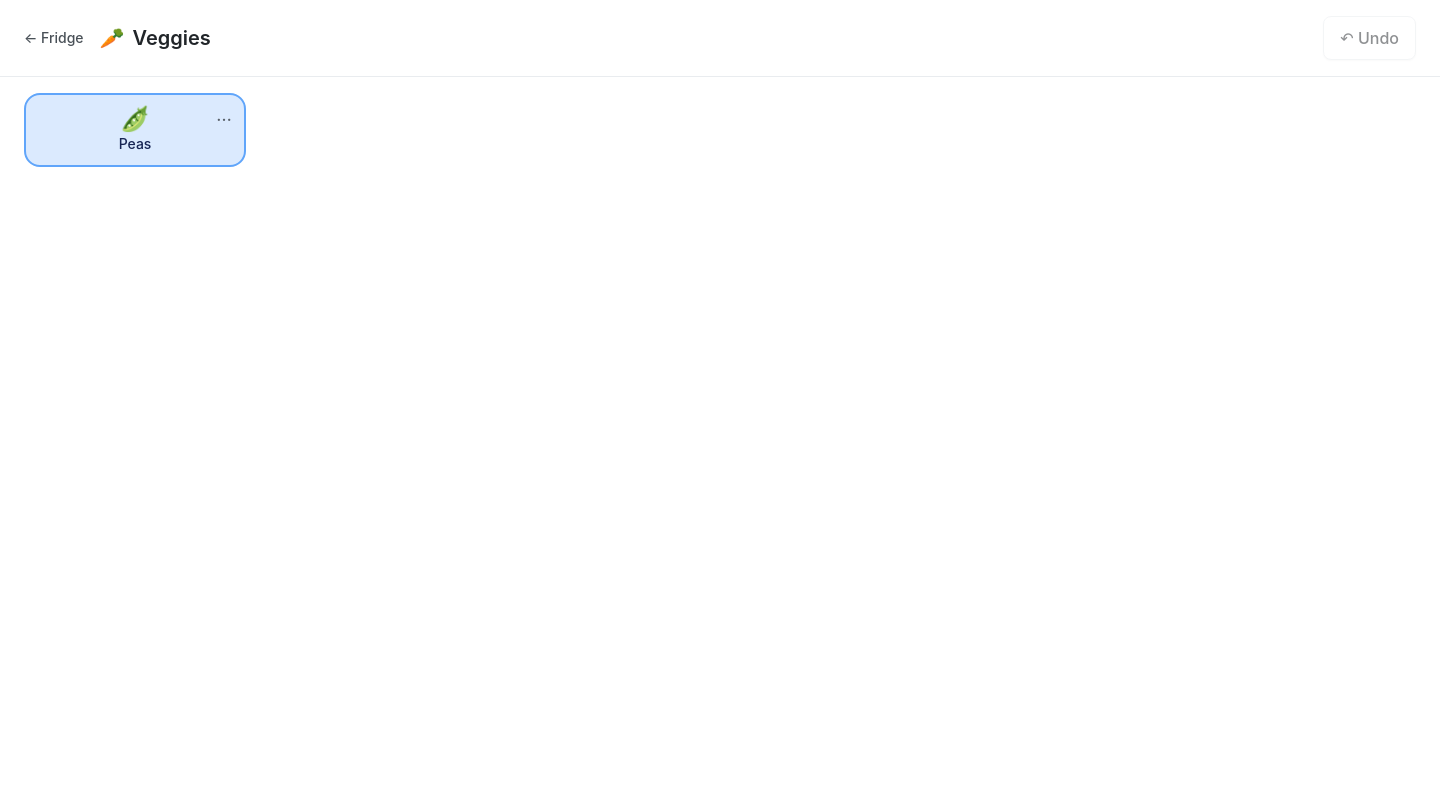
it: moves an item to the freezer, and it leaves the area
Check: the button with aria-label "Peas, keeps" is shown, box x1=24 y1=93 x2=246 y2=166
Click the button named "More for Peas" at (224, 115), box x1=202 y1=93 x2=246 y2=137
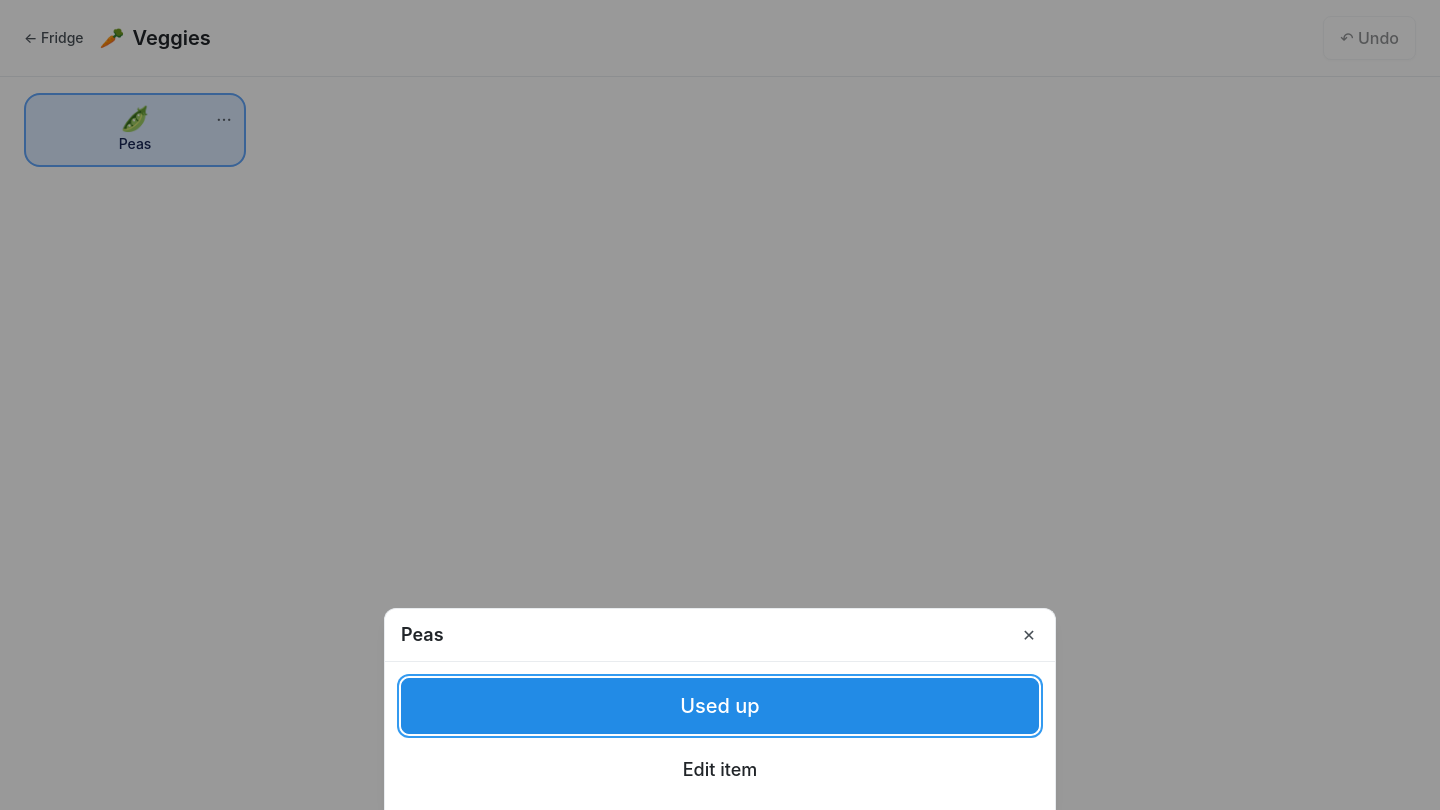
Click the button "Edit item" at (720, 770), box x1=401 y1=746 x2=1039 y2=794
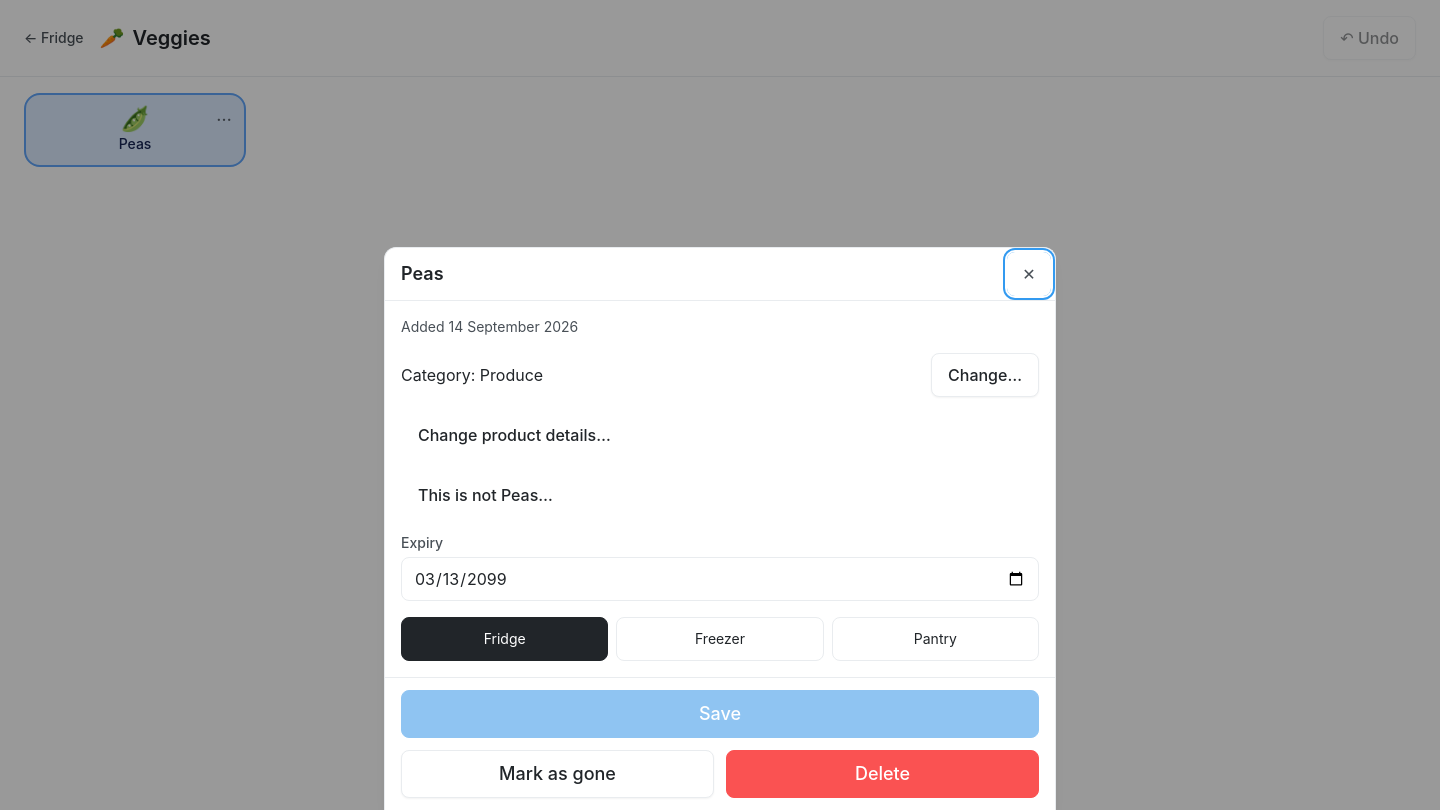
Click the radio button "Freezer" at (720, 639), box x1=616 y1=617 x2=824 y2=661
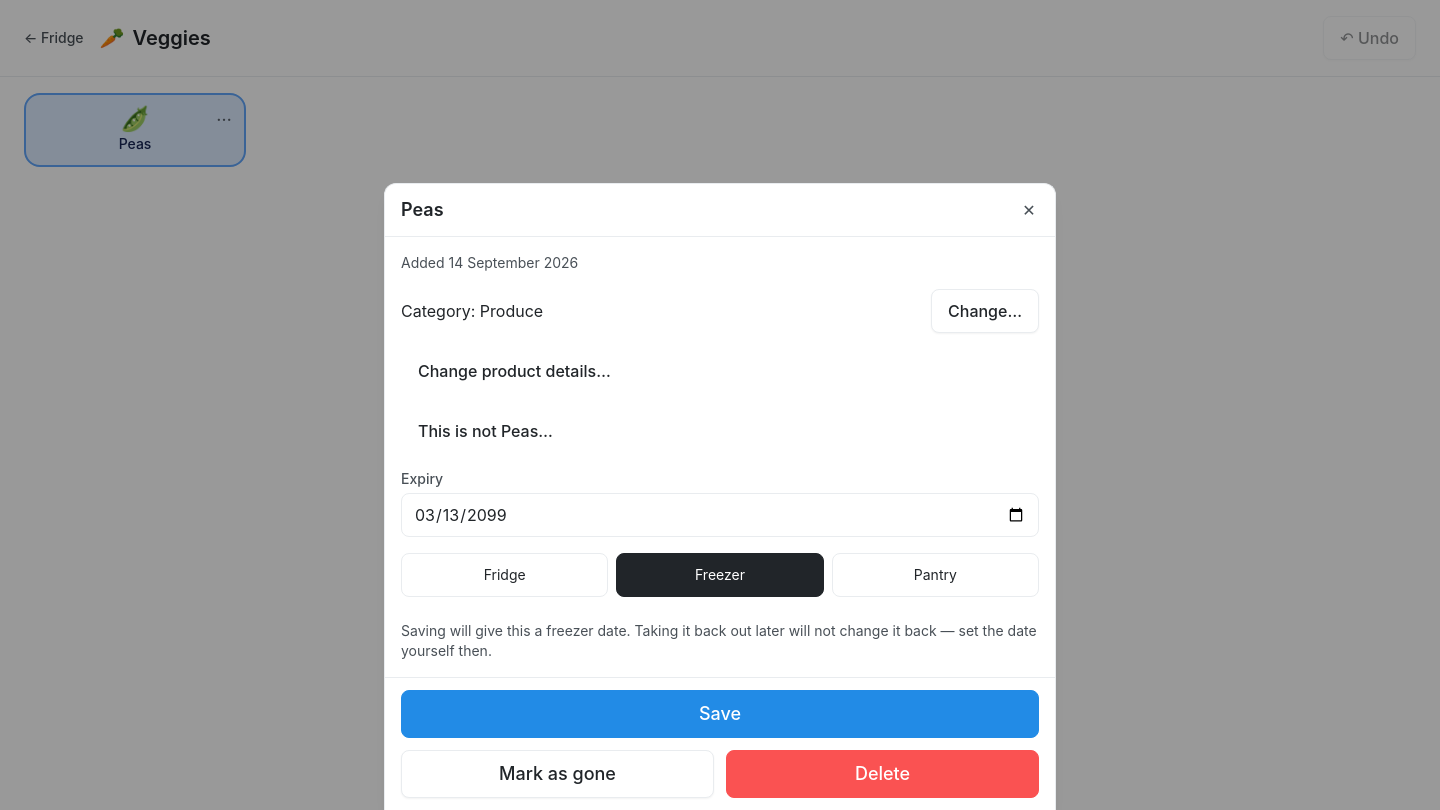
Click the button "Save" at (720, 714), box x1=401 y1=690 x2=1039 y2=738
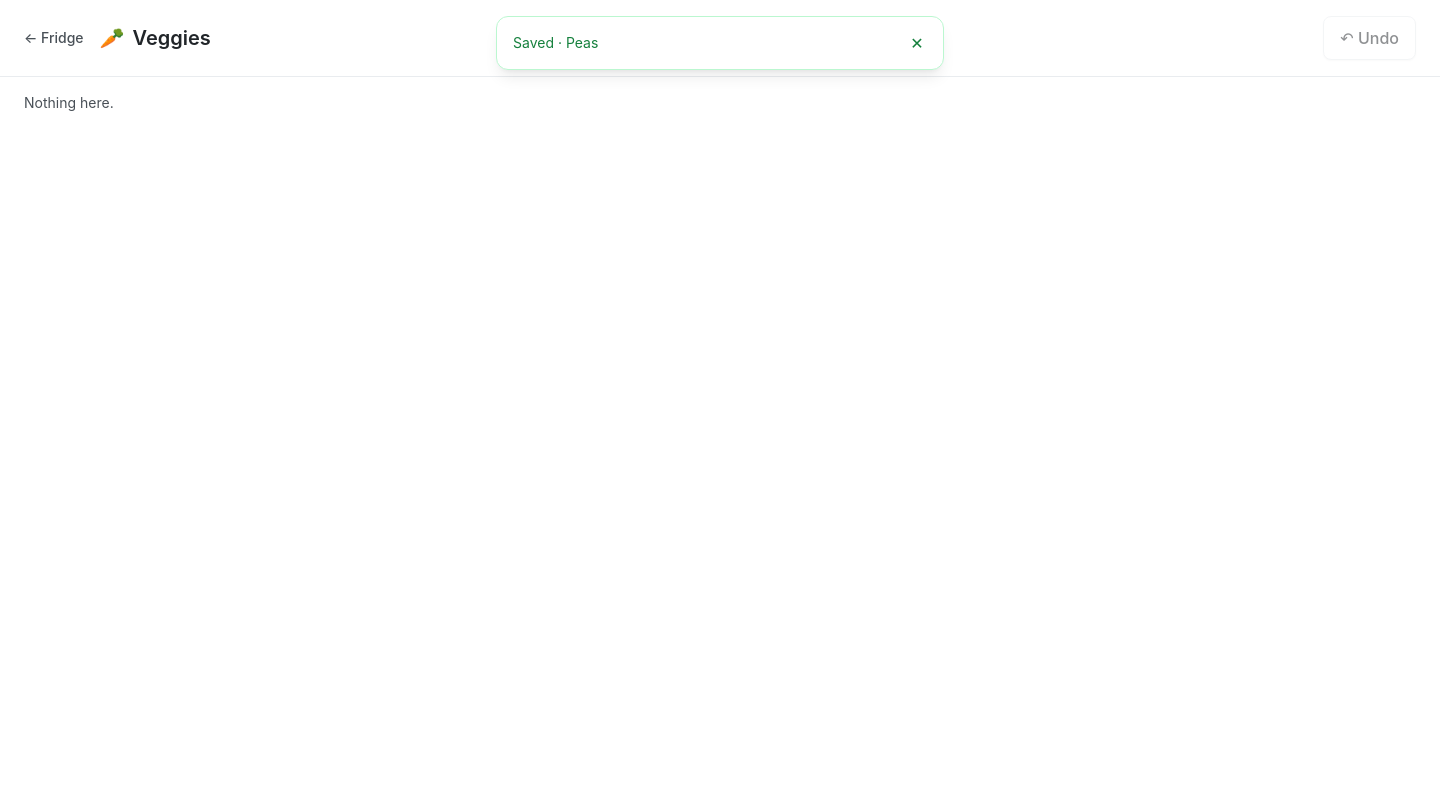
Check: the text "Saved · Peas" is shown, box x1=513 y1=34 x2=598 y2=51
